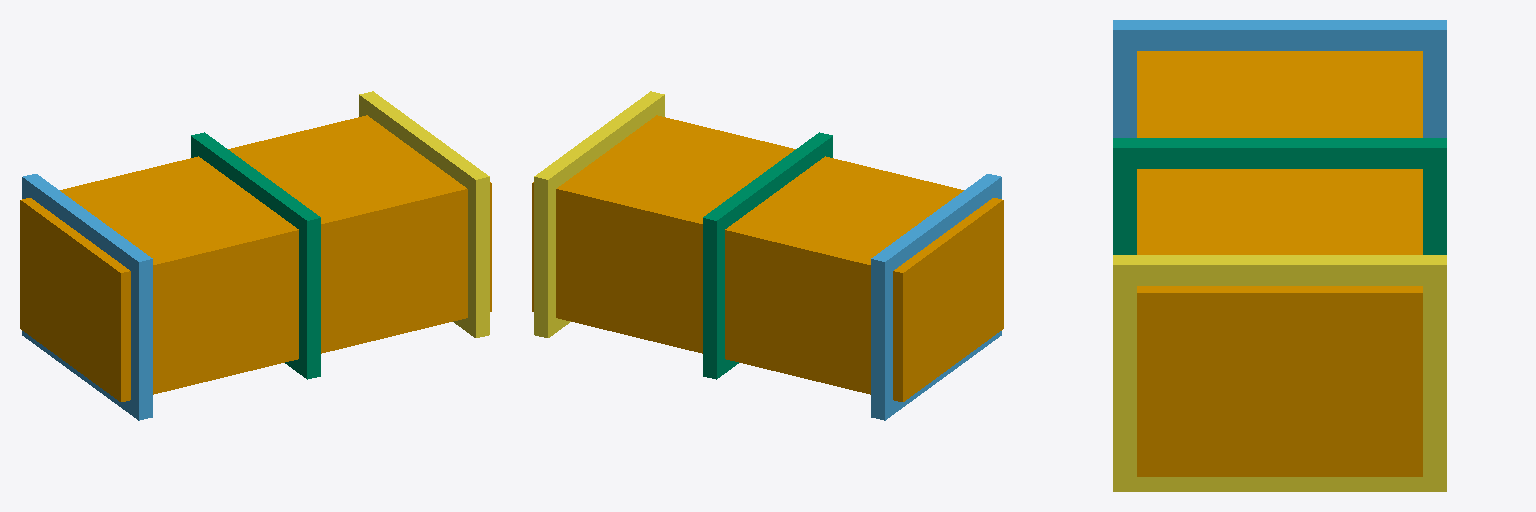
URDF robot description (debris010):
<?xml version="1.0" ?>
<robot name="debris010">

<link name="debris010">
<visual> <origin xyz="0 0 0" rpy="0 0 0" />
<geometry> <box size="1.32 0.62 0.44"/> </geometry>
</visual>
<collision> <origin xyz="0 0 0" rpy="0 0 0" />
<geometry> <box size="1.32 0.62 0.44"/> </geometry>
</collision>
<inertial> <origin xyz="0 0 0" rpy="0 0 0" />
<mass value="10.0" />
<inertia ixx="1.0525" ixy="0" ixz="0" iyy="1.0525" iyz="0" izz="1.0525" />
</inertial>
</link>
<gazebo reference="debris010"> <material>Gazebo/Tree</material> </gazebo>

<link name="debris0100">
<visual> <origin xyz="-0.60 0 0" rpy="0 0 0" />
<geometry> <box size="0.05 0.72 0.54"/> </geometry>
</visual>
<collision> <origin xyz="-0.60 0 0" rpy="0 0 0" />
<geometry> <box size="0.05 0.72 0.54"/> </geometry>
</collision>
<inertial> <origin xyz="0 0 0" rpy="0 0 0" />
<mass value="0.1" />
<inertia ixx="0.0100" ixy="0" ixz="0" iyy="0.0100" iyz="0" izz="0.0100" />
</inertial>
</link>
<gazebo reference="debris0100"> <material>Gazebo/Tree</material> </gazebo>

<joint name="debris0100joint" type="fixed">
<parent link="debris010"/>
<child link="debris0100"/>
<origin xyz="0 0 0" rpy="0 0 0" />
</joint>

<link name="debris0101">
<visual> <origin xyz="0.00 0 0" rpy="0 0 0" />
<geometry> <box size="0.05 0.72 0.54"/> </geometry>
</visual>
<collision> <origin xyz="0.00 0 0" rpy="0 0 0" />
<geometry> <box size="0.05 0.72 0.54"/> </geometry>
</collision>
<inertial> <origin xyz="0 0 0" rpy="0 0 0" />
<mass value="0.1" />
<inertia ixx="0.0100" ixy="0" ixz="0" iyy="0.0100" iyz="0" izz="0.0100" />
</inertial>
</link>
<gazebo reference="debris0101"> <material>Gazebo/Tree</material> </gazebo>

<joint name="debris0101joint" type="fixed">
<parent link="debris010"/>
<child link="debris0101"/>
<origin xyz="0 0 0" rpy="0 0 0" />
</joint>

<link name="debris0102">
<visual> <origin xyz="0.60 0 0" rpy="0 0 0" />
<geometry> <box size="0.05 0.72 0.54"/> </geometry>
</visual>
<collision> <origin xyz="0.60 0 0" rpy="0 0 0" />
<geometry> <box size="0.05 0.72 0.54"/> </geometry>
</collision>
<inertial> <origin xyz="0 0 0" rpy="0 0 0" />
<mass value="0.1" />
<inertia ixx="0.0100" ixy="0" ixz="0" iyy="0.0100" iyz="0" izz="0.0100" />
</inertial>
</link>
<gazebo reference="debris0102"> <material>Gazebo/Tree</material> </gazebo>

<joint name="debris0102joint" type="fixed">
<parent link="debris010"/>
<child link="debris0102"/>
<origin xyz="0 0 0" rpy="0 0 0" />
</joint>

</robot>

--- Render facts (derived) ---
3 views of the same robot in one strip: view 1: azimuth 30°, elevation 25°; view 2: azimuth 150°, elevation 25°; view 3: azimuth 270°, elevation 25° (orthographic).
Robot: debris010 — 4 links, 3 joints (3 fixed); root link debris010; default pose: every joint at zero.
Links seen in each view (by area): view 1: debris010, debris0100, debris0102, debris0101; view 2: debris010, debris0100, debris0102, debris0101; view 3: debris010, debris0102, debris0100, debris0101.
Link boxes in pixels (x1,y1,x2,y2): debris010: (20, 115, 491, 401); debris0100: (22, 174, 152, 420); debris0102: (359, 91, 489, 337); debris0101: (191, 132, 320, 379); debris010: (532, 115, 1003, 401); debris0100: (871, 174, 1001, 420); debris0102: (534, 91, 664, 337); debris0101: (703, 132, 832, 379); debris010: (1137, 51, 1422, 476); debris0102: (1113, 255, 1446, 491); debris0100: (1113, 20, 1446, 137); debris0101: (1113, 138, 1446, 254).
Bounding box of the posed robot: 1.32 × 0.72 × 0.54 m (x, y, z).
Geometry: primitives only (box / cylinder / sphere), no mesh files.
